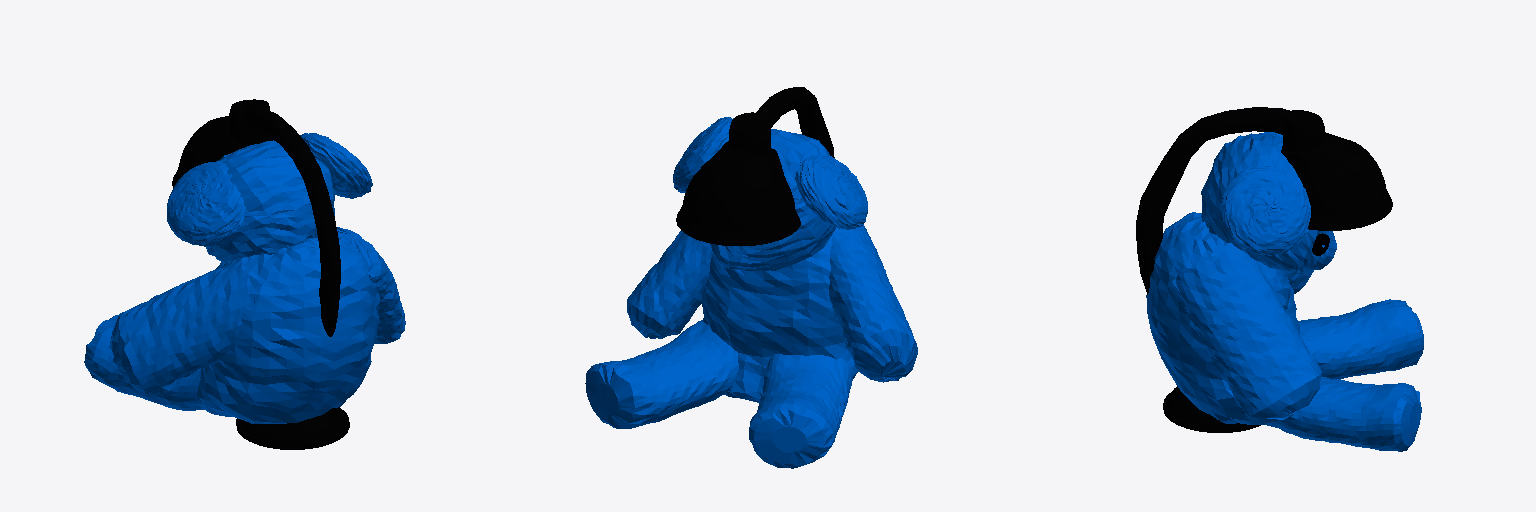
Rendered from blueno_joint.obj.
3 renders of one model, left to right at view 1: azimuth 30°, elevation 25°; view 2: azimuth 150°, elevation 25°; view 3: azimuth 270°, elevation 25°, orthographic.
Visible parts, largest first — view 1: blueno_Sphere.008; view 2: blueno_Sphere.008; view 3: blueno_Sphere.008.
Part boxes in pixels (x1,y1,x2,y2): blueno_Sphere.008: (84,99,405,449); blueno_Sphere.008: (585,87,917,468); blueno_Sphere.008: (1136,107,1423,451).
Size of the model in its own units: 28.54 by 29.22 by 25.46.